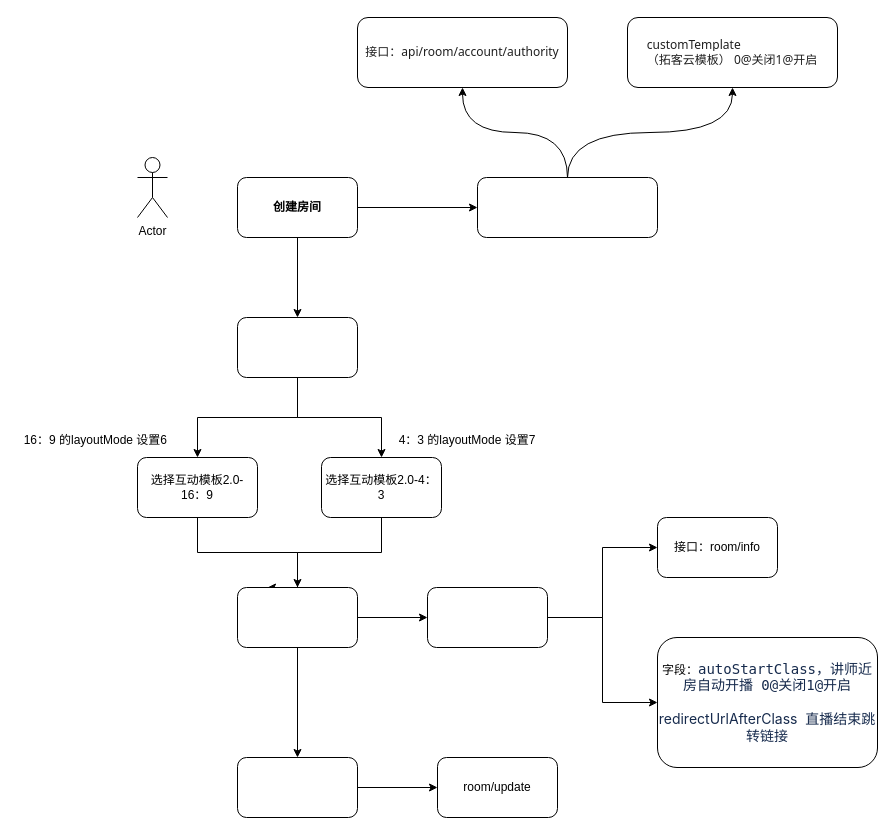
The diagram is 895 pixels wide and 835 high, and some of its shapes have lost their labels. The shapes that lost their labels are listed below. From the top down, each one's centre as x and y in pixels, then its label:
point 567,207: 获取vuion账号权限
point 297,347: 选择互动模板2.0
point 297,617: 编辑房间-高级
point 487,617: 查询房间详情
point 297,787: 更新房间
